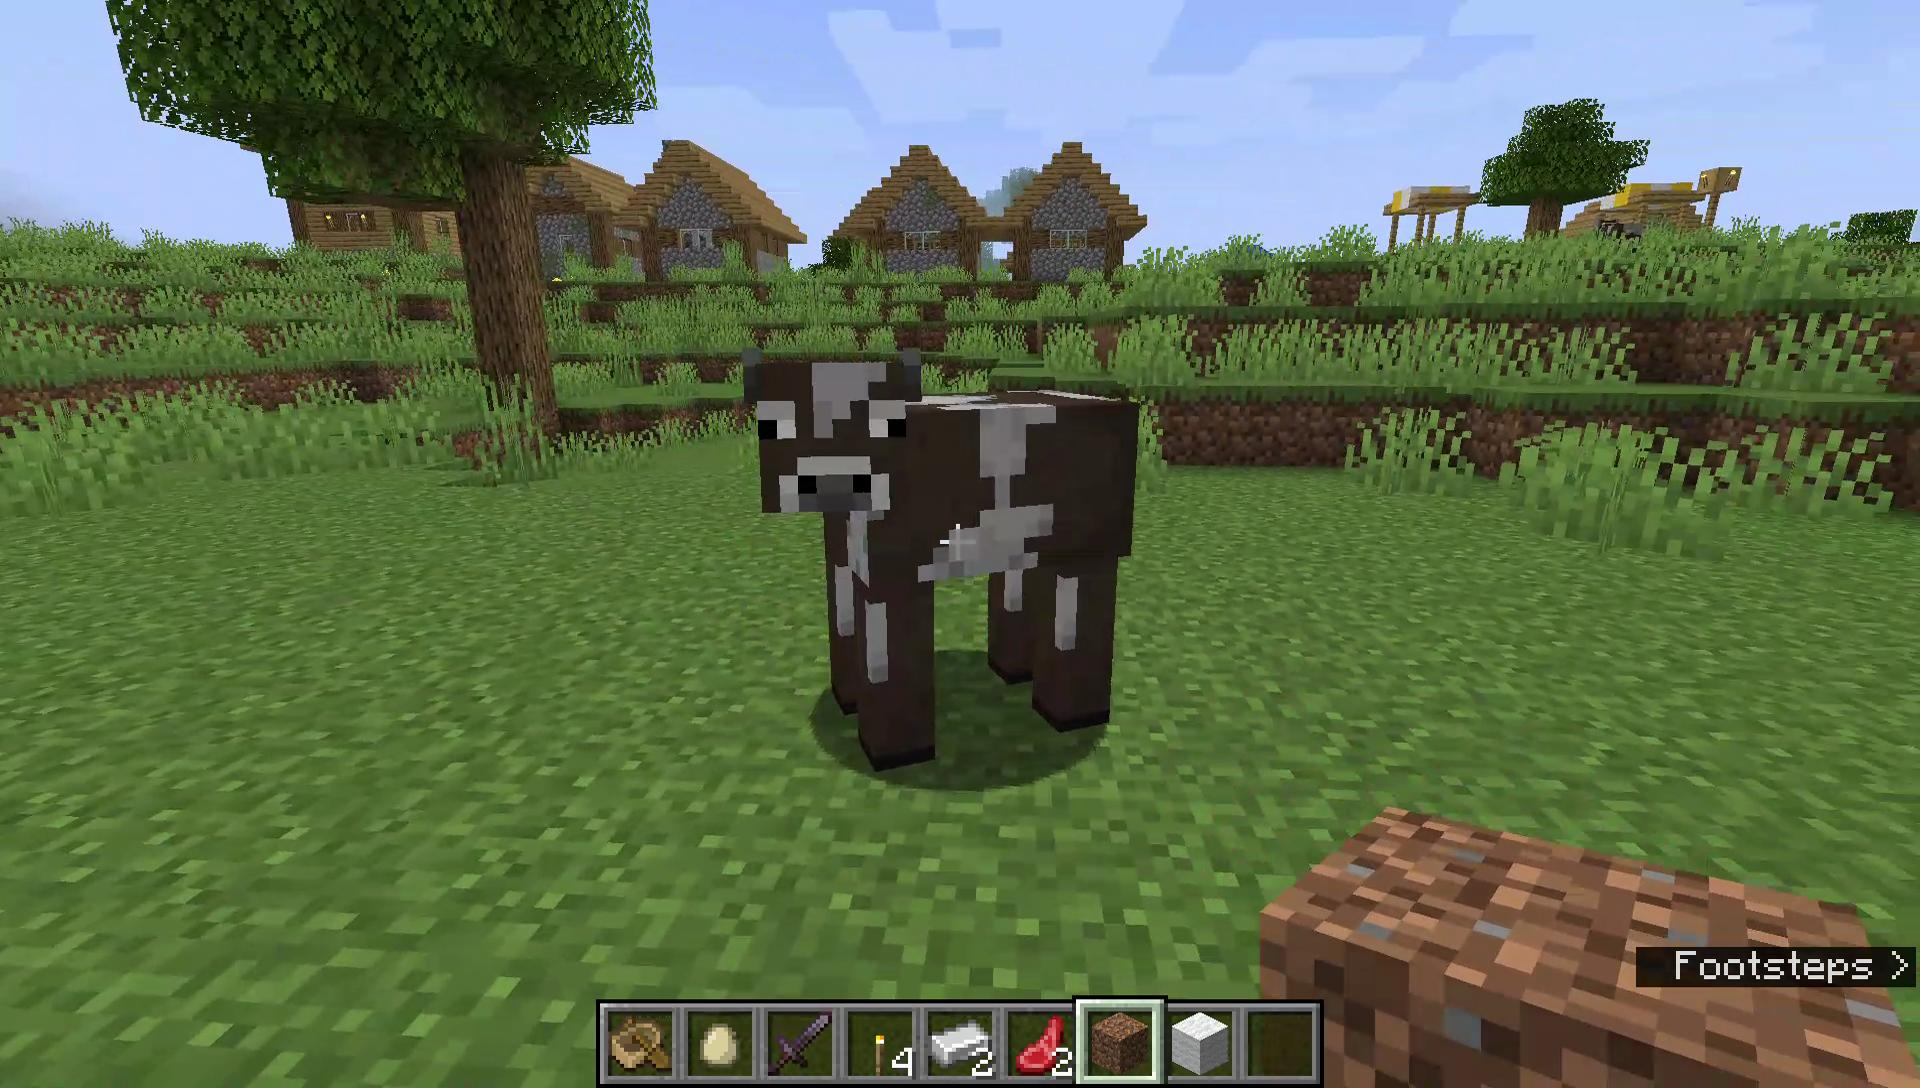cow: (733, 328, 1149, 785), (1596, 216, 1647, 253)
